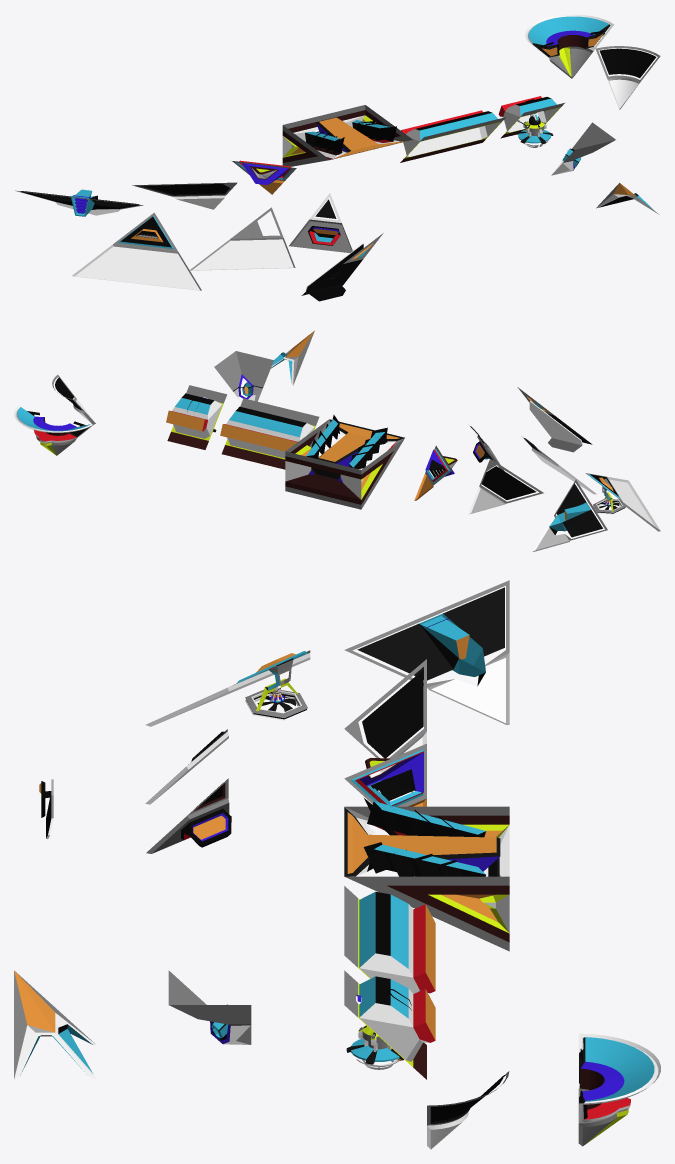
The model's file is CityBlocks01.FBX.
3 views of the same model, one above another, from view 1: azimuth 30°, elevation 25°; view 2: azimuth 150°, elevation 25°; view 3: azimuth 270°, elevation 25° (orthographic). The views are drawn at different scales.
Parts seen in each view (by area): view 1: Plane019, Plane027, Cylinder020, Plane028, Plane020, Cylinder019, Plane029, Plane030, Plane023, Plane021, Plane022, Plane025 (+3 smaller); view 2: Plane019, Plane020, Plane021, Plane022, Plane023, Plane025, Cylinder020, Plane027, Plane030, Plane024, Plane026, Cylinder019 (+2 smaller); view 3: Plane019, Plane022, Plane020, Cylinder020, Plane021, Plane023, Plane026, Plane024, Plane027, Plane025, Plane029, Cylinder019 (+1 smaller).
Boxes of the visible parts, x1=… form: Plane019: x1=282, y1=105, x2=412, y2=166; Plane027: x1=72, y1=212, x2=201, y2=290; Cylinder020: x1=525, y1=14, x2=614, y2=78; Plane028: x1=189, y1=207, x2=295, y2=270; Plane020: x1=400, y1=110, x2=505, y2=162; Cylinder019: x1=595, y1=46, x2=660, y2=109; Plane029: x1=289, y1=193, x2=352, y2=252; Plane030: x1=301, y1=233, x2=383, y2=301; Plane023: x1=132, y1=182, x2=237, y2=209; Plane021: x1=498, y1=96, x2=564, y2=138; Plane022: x1=15, y1=189, x2=143, y2=216; Plane025: x1=551, y1=122, x2=615, y2=175; Plane019: x1=285, y1=414, x2=404, y2=509; Plane020: x1=220, y1=398, x2=319, y2=469; Plane021: x1=166, y1=385, x2=227, y2=449; Plane022: x1=532, y1=480, x2=607, y2=551; Plane023: x1=468, y1=458, x2=543, y2=514; Plane025: x1=214, y1=351, x2=273, y2=402; Cylinder020: x1=14, y1=405, x2=94, y2=455; Plane027: x1=585, y1=473, x2=660, y2=531; Plane030: x1=517, y1=387, x2=592, y2=452; Plane024: x1=414, y1=445, x2=457, y2=500; Plane026: x1=271, y1=330, x2=314, y2=385; Cylinder019: x1=52, y1=375, x2=95, y2=424; Plane019: x1=344, y1=798, x2=509, y2=951; Plane022: x1=344, y1=580, x2=509, y2=724; Plane020: x1=344, y1=886, x2=435, y2=993; Cylinder020: x1=578, y1=1033, x2=660, y2=1146; Plane021: x1=344, y1=970, x2=435, y2=1079; Plane023: x1=344, y1=659, x2=426, y2=792; Plane026: x1=14, y1=970, x2=96, y2=1079; Plane024: x1=344, y1=743, x2=426, y2=806; Plane027: x1=145, y1=650, x2=310, y2=726; Plane025: x1=168, y1=970, x2=251, y2=1044; Plane029: x1=146, y1=778, x2=231, y2=853; Cylinder019: x1=427, y1=1071, x2=509, y2=1149.
Size of the model in its own units: 75.19 by 7.71 by 39.13.
